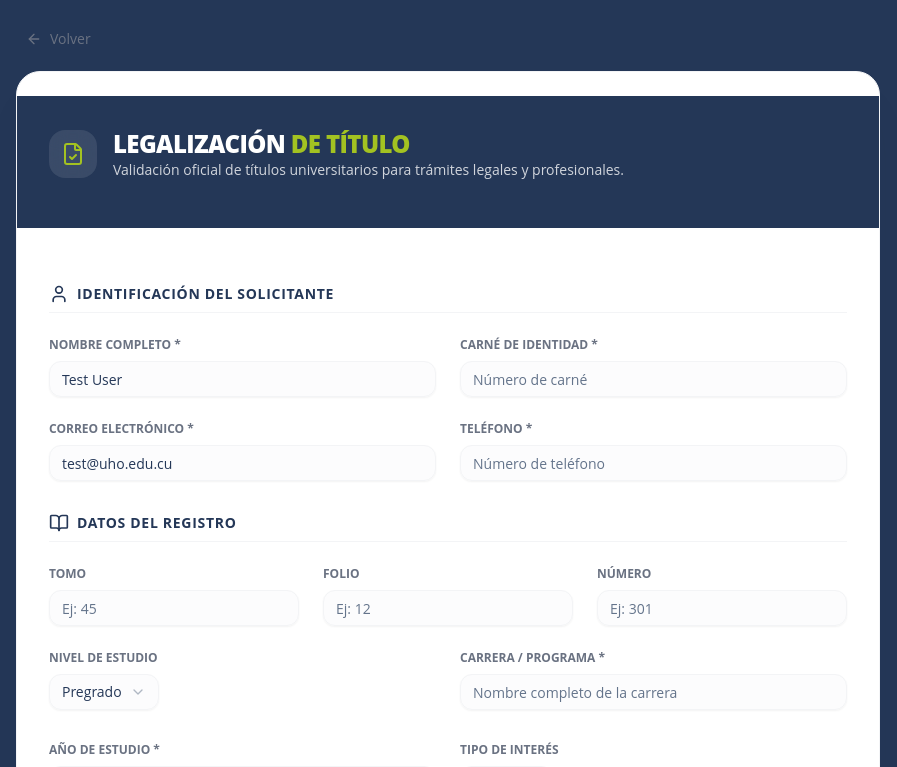
Scenario: TitleLegalization validación común › exige carné de identidad
The image size is (897, 767).
Clear the field labelled "Carné de Identidad *" at [654, 379], box x1=460 y1=361 x2=847 y2=397
(page scrolled)
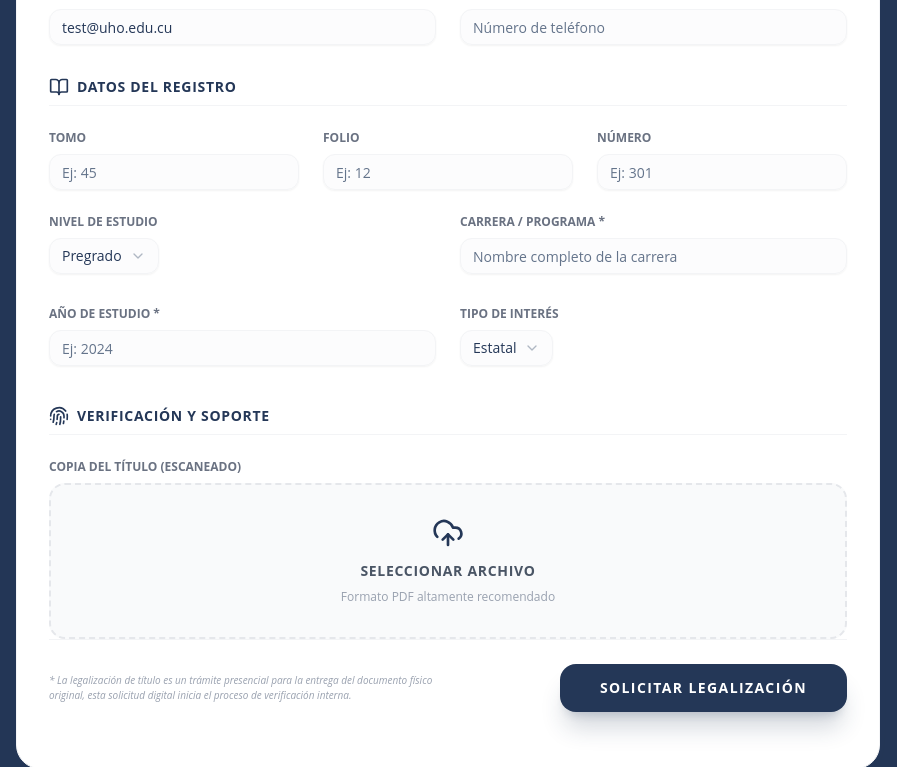
Click the button "Solicitar Legalización" at [703, 688], box x1=560 y1=664 x2=847 y2=712
(page scrolled)
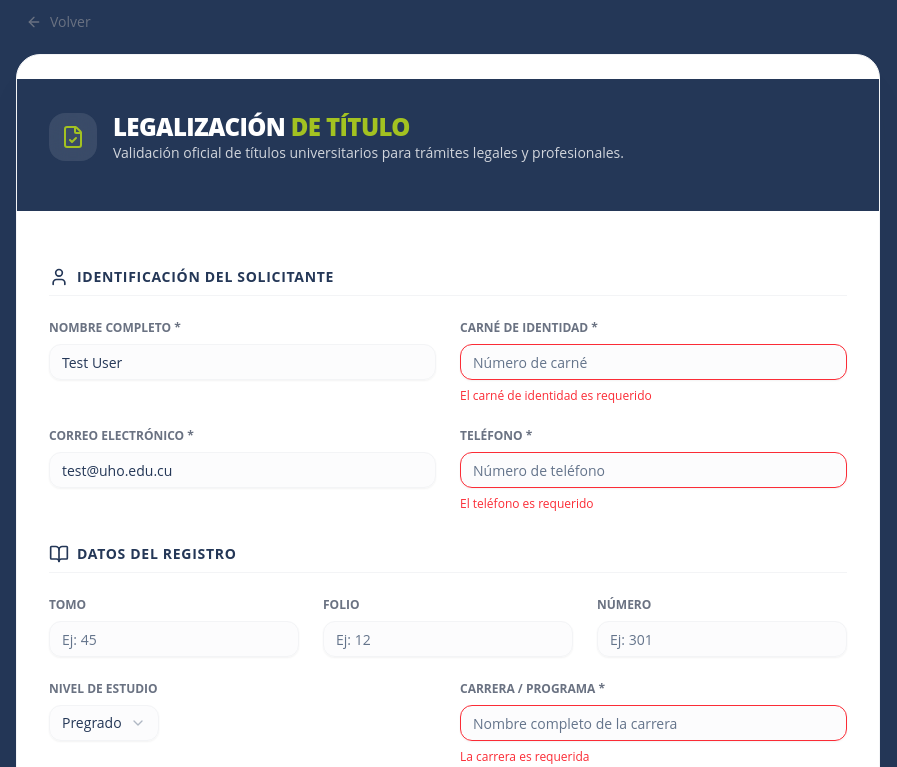
Now the text "El carné de identidad es requerido" is shown, box x1=460 y1=387 x2=652 y2=404
